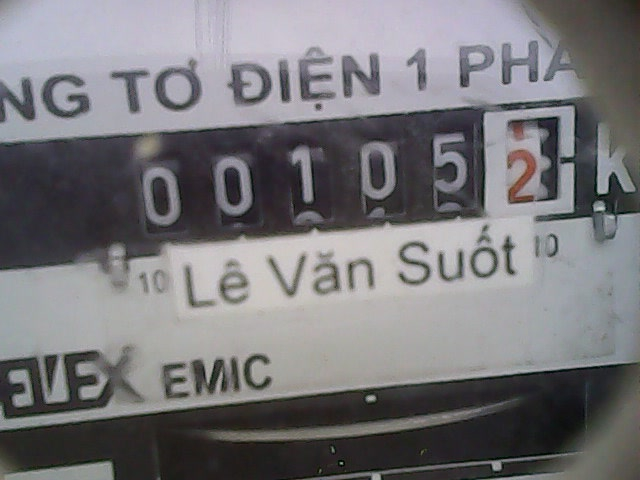phy_plate: (117, 103, 584, 240)
